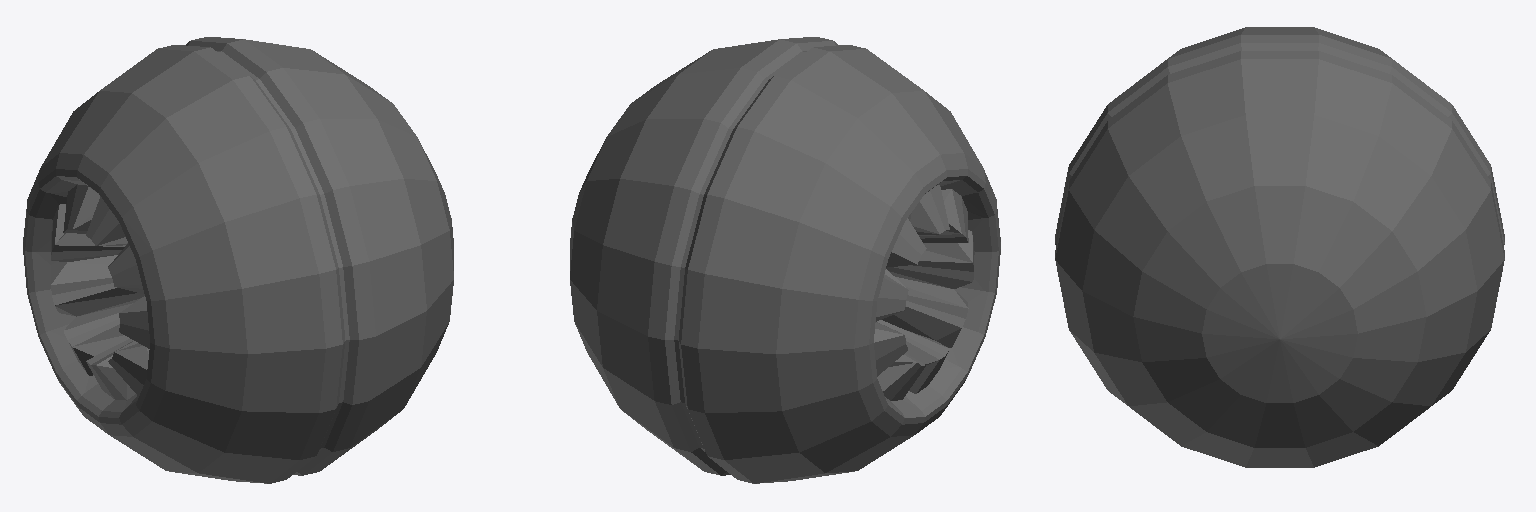
File: droid.obj
3 renders of one model, left to right at view 1: azimuth 30°, elevation 25°; view 2: azimuth 150°, elevation 25°; view 3: azimuth 270°, elevation 25°, orthographic.
Visible parts, largest first — view 1: droid; view 2: droid; view 3: droid.
Part boxes in pixels (x1,y1,x2,y2): droid: (23, 37, 453, 483); droid: (570, 37, 1000, 483); droid: (1055, 27, 1504, 467).
Bounding box in the file's own units: 1.73 × 1.94 × 1.97.